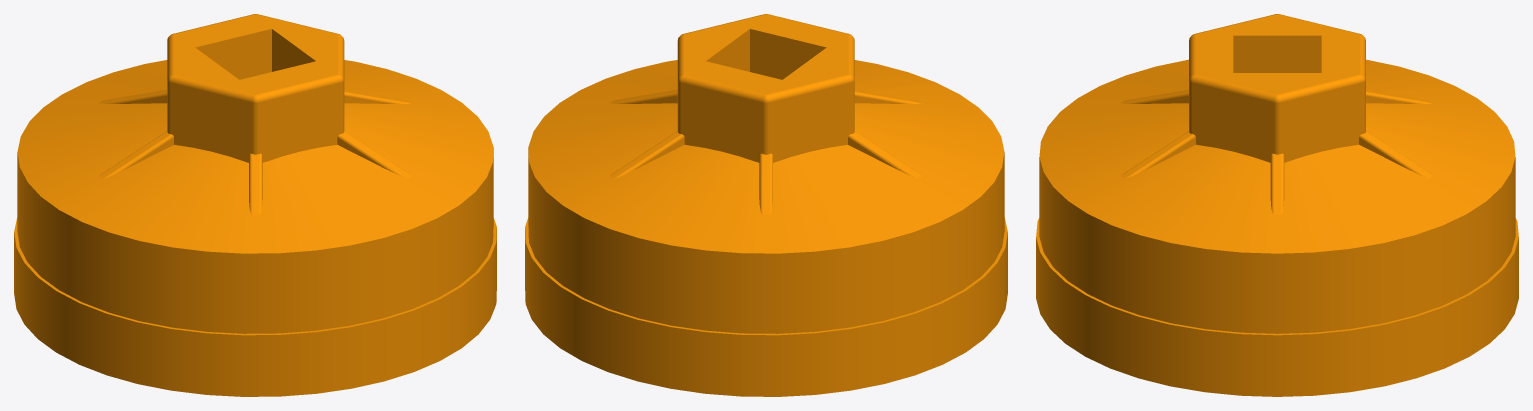
The model's file is Jiyoulvqingqibanshou.FBX.
The picture shows the model from 3 angles, left to right: view 1: azimuth 30°, elevation 25°; view 2: azimuth 150°, elevation 25°; view 3: azimuth 270°, elevation 25°; orthographic projection.
Parts seen in each view (by area): view 1: jiyoulvqingqibanshou; view 2: jiyoulvqingqibanshou; view 3: jiyoulvqingqibanshou.
Part boxes in pixels (<box>): jiyoulvqingqibanshou: <box>14,14,496,396</box>; jiyoulvqingqibanshou: <box>525,14,1007,396</box>; jiyoulvqingqibanshou: <box>1036,14,1518,396</box>.
Size of the model in its own units: 7.09 by 3.9 by 7.09.
